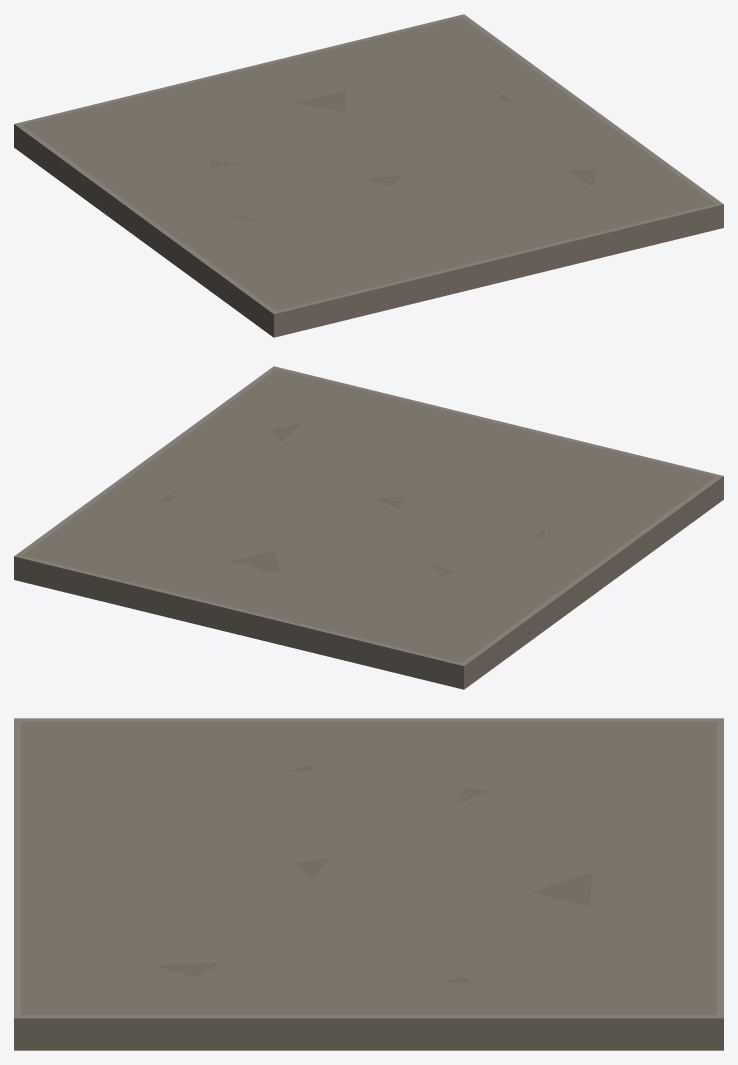
Rendered from ConcrateSlabs_A_1_3.obj.
3 renders of one model, top to bottom at view 1: azimuth 30°, elevation 25°; view 2: azimuth 150°, elevation 25°; view 3: azimuth 270°, elevation 25°, orthographic. The views are drawn at different scales.
Parts seen in each view (by area): view 1: ConcrateSlabs_A_1_3; view 2: ConcrateSlabs_A_1_3; view 3: ConcrateSlabs_A_1_3.
Part boxes in pixels (left/top/right/bottom): ConcrateSlabs_A_1_3: left=14, top=14, right=723, bottom=337; ConcrateSlabs_A_1_3: left=14, top=366, right=723, bottom=689; ConcrateSlabs_A_1_3: left=14, top=718, right=723, bottom=1050.
Bounding box in the file's own units: 8 × 0.4 × 8.
